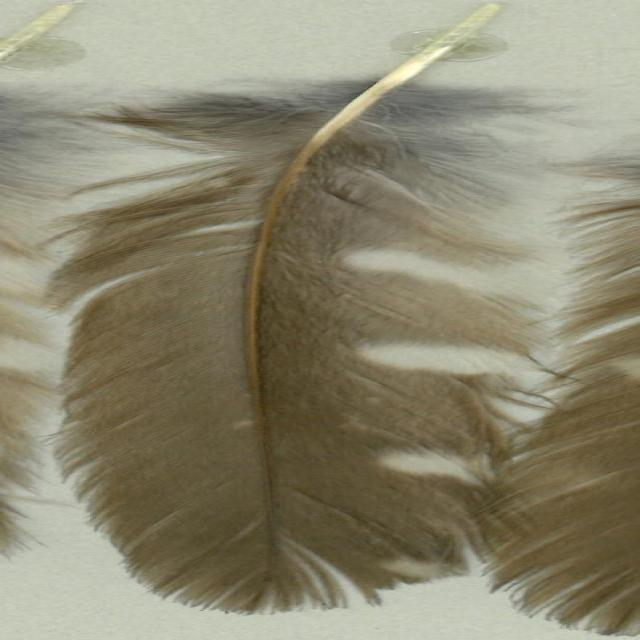feather: (48, 0, 579, 615)
